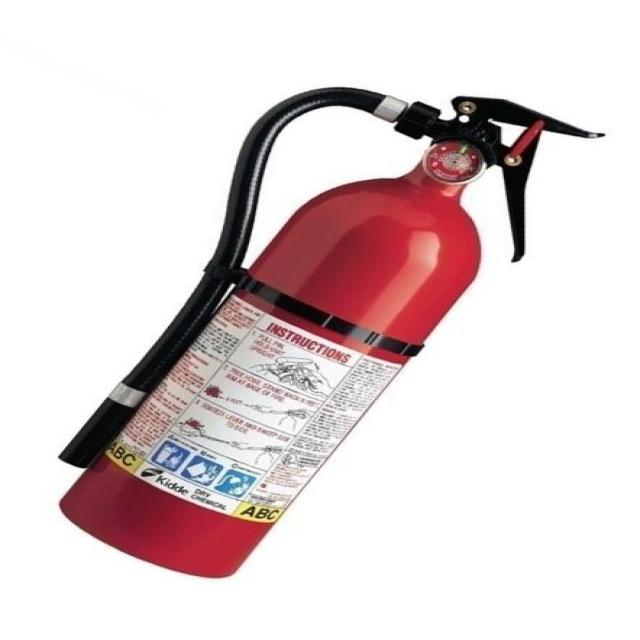fire_extinguisher: (43, 82, 607, 580)
